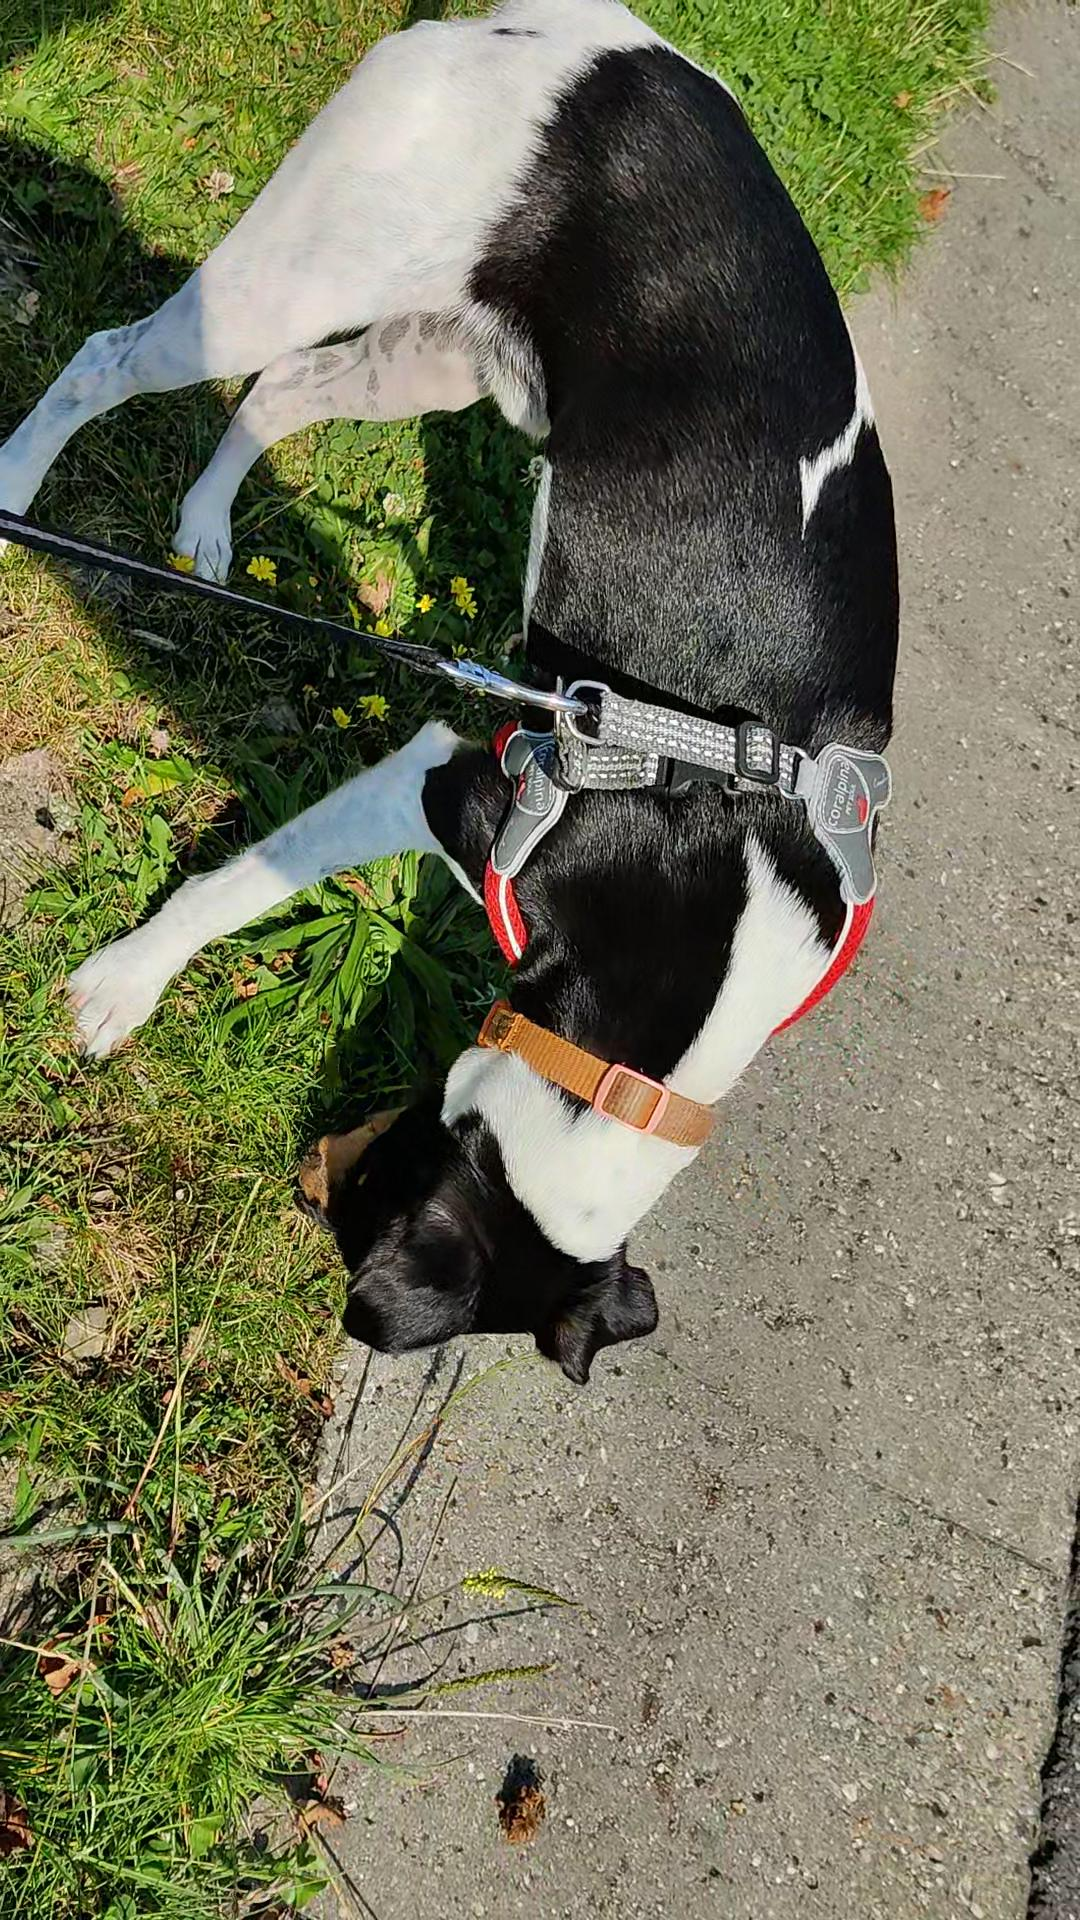Dog: (0, 0, 961, 1458)
